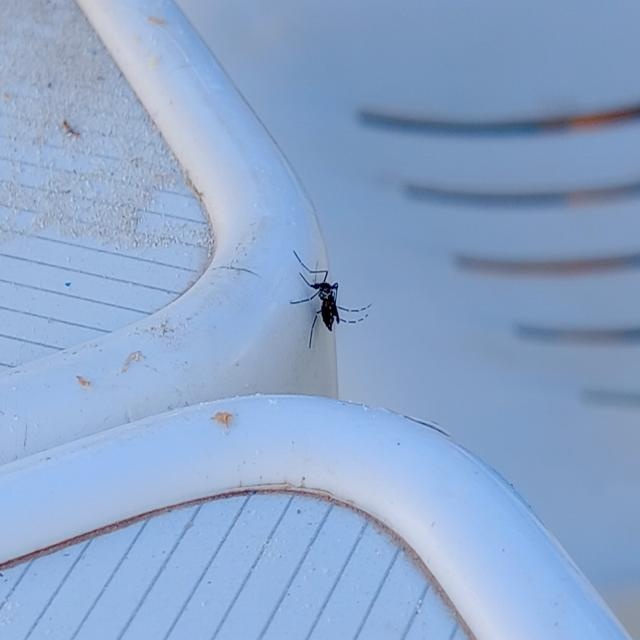albopictus: (285, 238, 370, 348)
